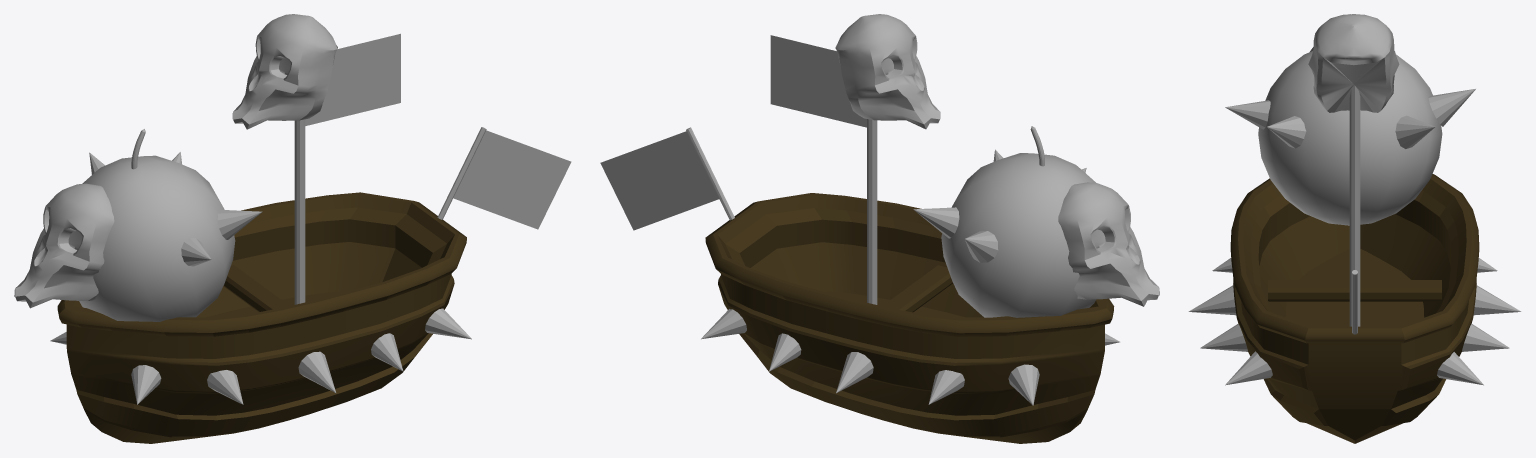
Rendered from ZombieEnemyTier3.fbx.
The picture shows the model from 3 angles, left to right: view 1: azimuth 30°, elevation 25°; view 2: azimuth 150°, elevation 25°; view 3: azimuth 270°, elevation 25°; orthographic projection. The views are drawn at different scales.
Visible parts, largest first — view 1: pCube4, polySurface37, polySurface35, :pPlane1_f_0:99]; view 2: pCube4, polySurface37, polySurface35, :pPlane1_f_0:99]; view 3: pCube4, polySurface37, polySurface35.
Part boxes in pixels (x1,y1,x2,y2): pCube4: (57,192,466,443); polySurface37: (50,119,486,404); polySurface35: (14,14,337,308); :pPlane1_f_0:99]: (305,33,571,229); pCube4: (705,193,1114,443); polySurface37: (686,119,1119,405); polySurface35: (835,14,1159,306); :pPlane1_f_0:99]: (600,35,866,230); pCube4: (1230,174,1479,443); polySurface37: (1188,14,1521,385); polySurface35: (1308,14,1399,112).
Bounding box in the file's own units: 4.45 × 3.01 × 2.24.
